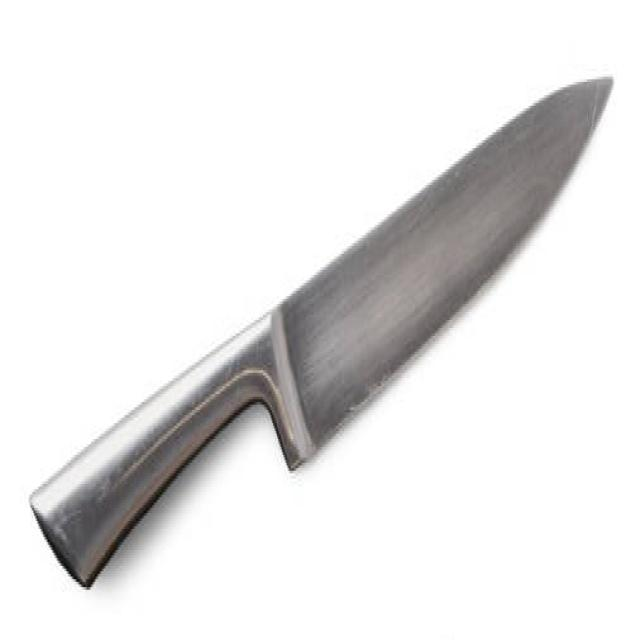knife: (27, 67, 617, 601)
